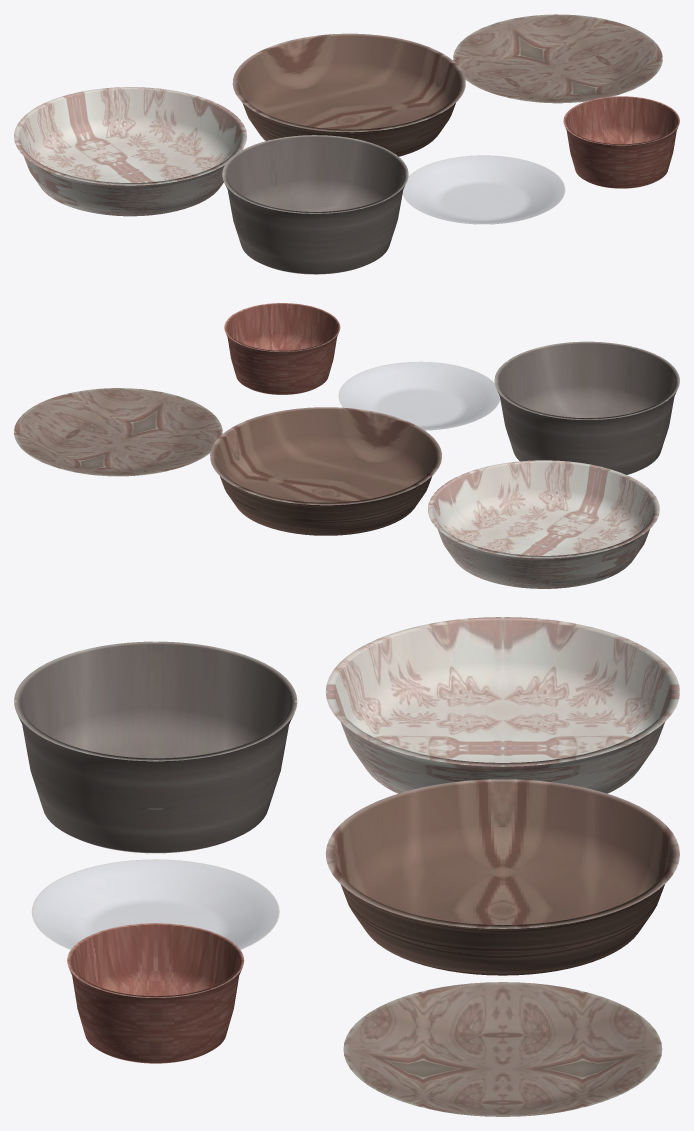
The model's file is NAV-03.glb.
3 renders of one model, top to bottom at view 1: azimuth 30°, elevation 25°; view 2: azimuth 150°, elevation 25°; view 3: azimuth 270°, elevation 25°, orthographic. The views are drawn at different scales.
Bounding box in the file's own units: 0.92 × 0.1 × 0.564.
Materials: 12 (12 with a texture image).
